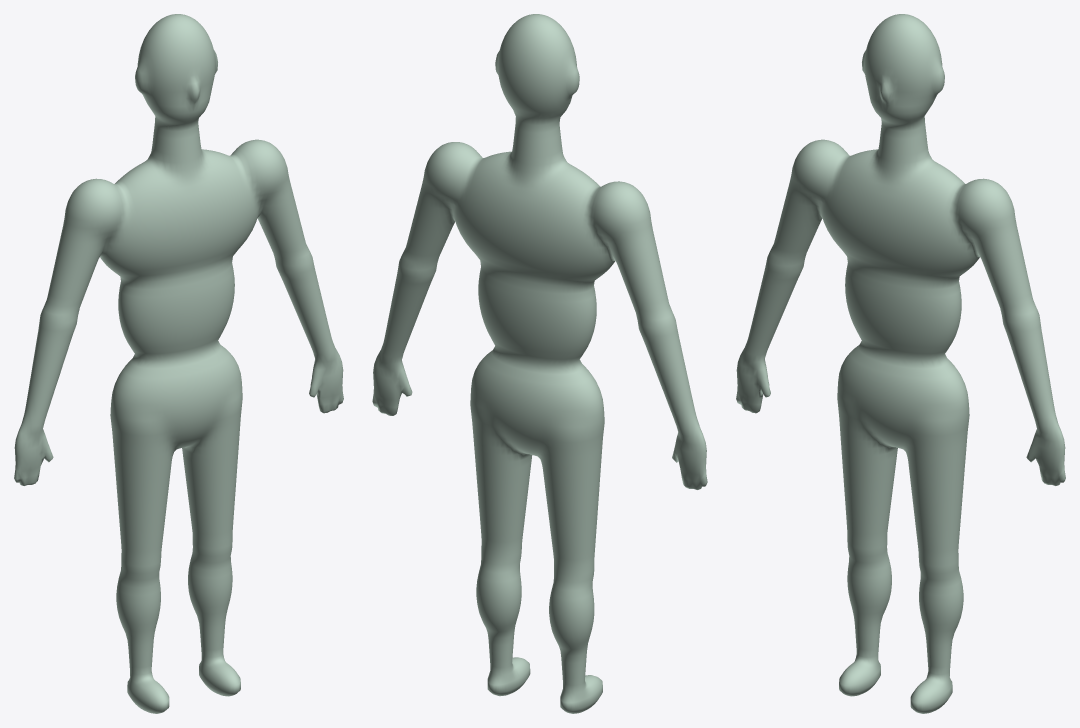
File: body-shell.glb
3 renders of one model, left to right at view 1: azimuth 30°, elevation 25°; view 2: azimuth 150°, elevation 25°; view 3: azimuth 330°, elevation 25°, orthographic.
Parts seen in each view (by area): view 1: BodyShell; view 2: BodyShell; view 3: BodyShell.
Boxes of the visible parts, left/top/right/bottom form: BodyShell: left=14, top=14, right=343, bottom=713; BodyShell: left=372, top=14, right=707, bottom=713; BodyShell: left=736, top=14, right=1065, bottom=713.
Bounding box in the file's own units: 3.13 × 6.16 × 0.7338.
